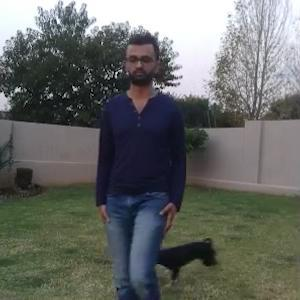follow: (94, 35, 184, 298)
